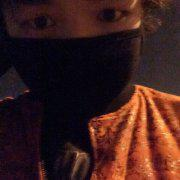OK: (10, 5, 141, 136)
